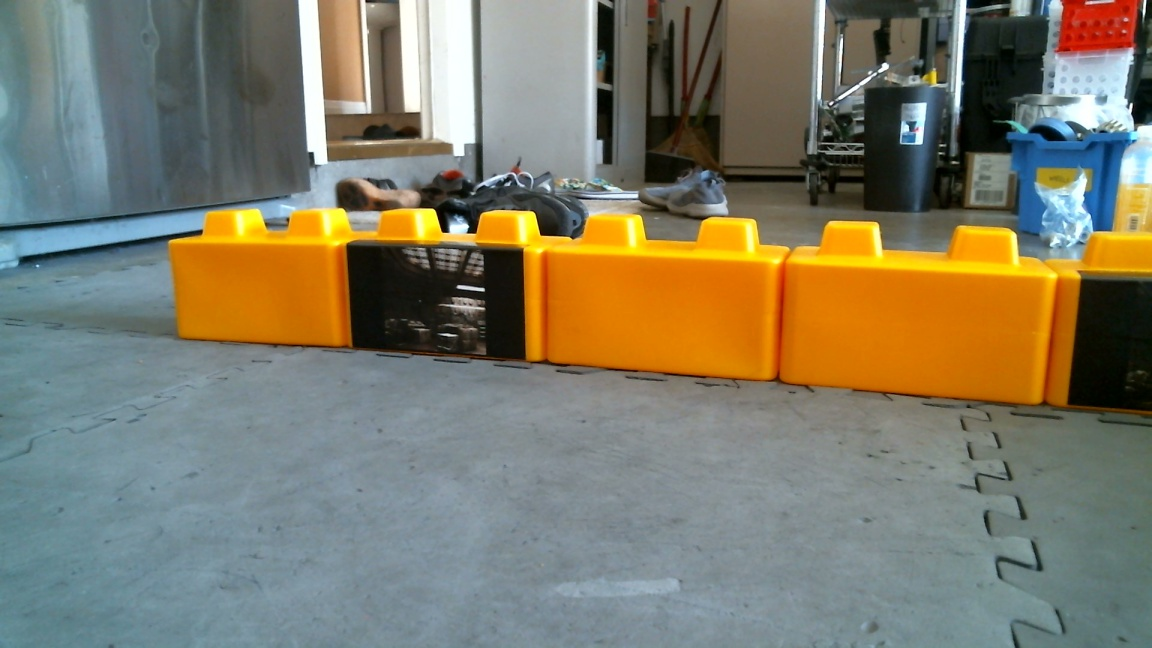center: (166, 207, 773, 379)
left: (338, 205, 1049, 410)
